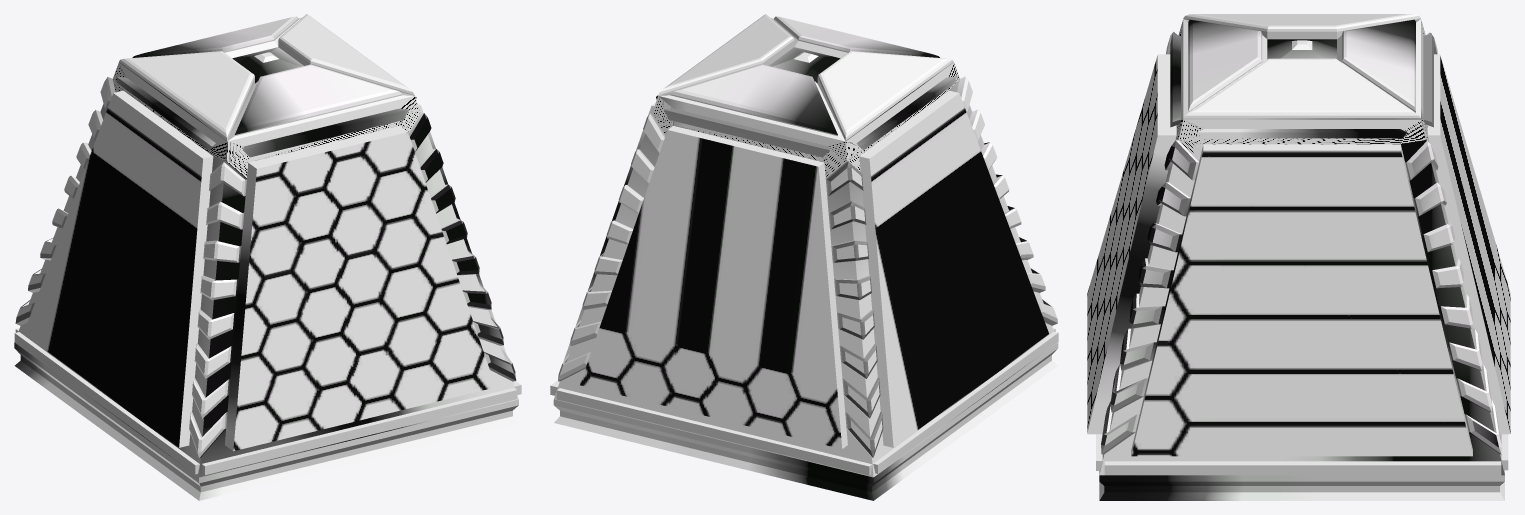
Rendered from PhasedArray_Large.fbx.
The picture shows the model from 3 angles, left to right: view 1: azimuth 30°, elevation 25°; view 2: azimuth 150°, elevation 25°; view 3: azimuth 270°, elevation 25°; orthographic projection. The views are drawn at different scales.
Visible parts, largest first — view 1: Frame, Base; view 2: Frame, Base; view 3: Frame, Base.
Boxes of the visible parts, bbox=[...] form: Frame: bbox=[14, 14, 518, 500]; Base: bbox=[14, 328, 521, 475]; Frame: bbox=[553, 14, 1058, 500]; Base: bbox=[550, 328, 1058, 475]; Frame: bbox=[1087, 14, 1510, 500]; Base: bbox=[1096, 434, 1508, 475].
Size of the model in its own units: 1025 by 1002 by 1032.
